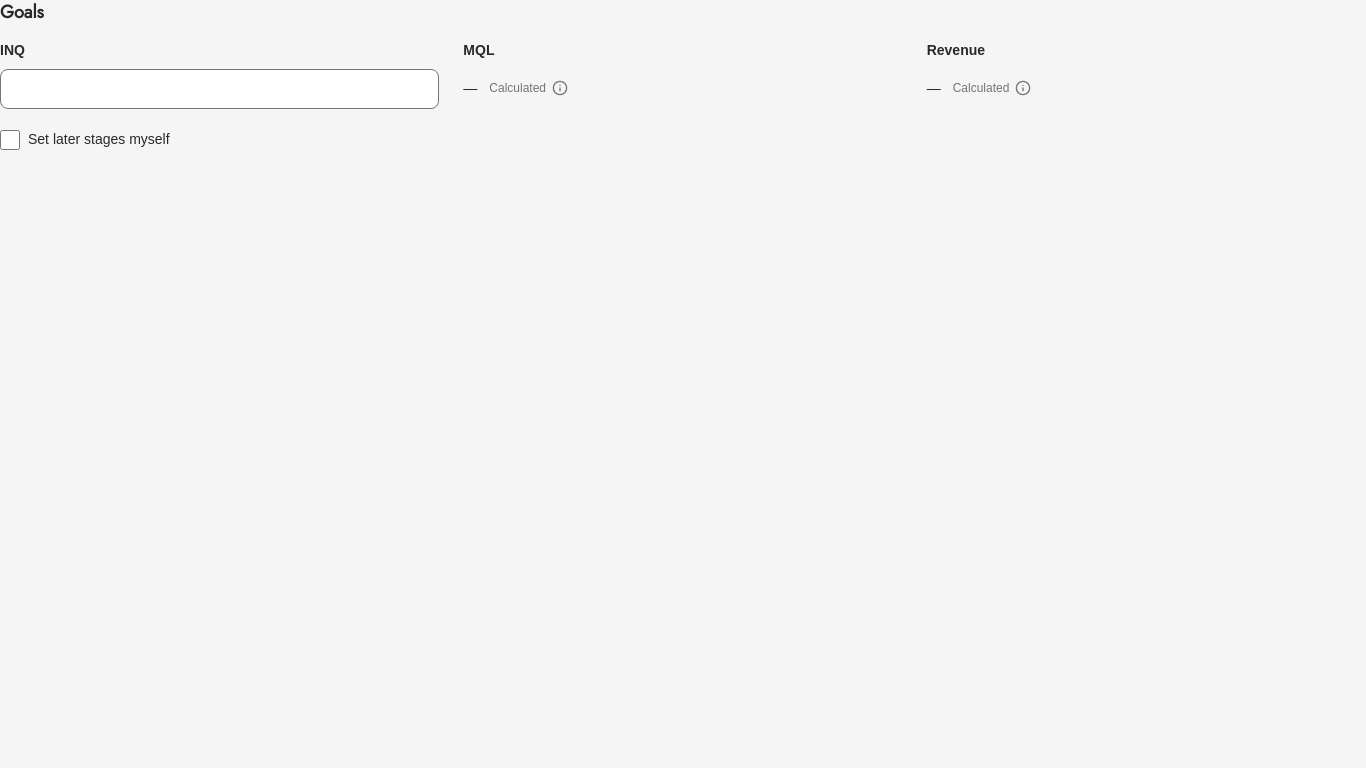
Test: GoalsFields (feature 006, FR-018) › calculates MQL and revenue from INQ with the model, labelled Calculated with the formula
This screenshot has width=1366, height=768.
In the field labelled "INQ": (220, 89) [0, 69, 439, 109], type "250,000"
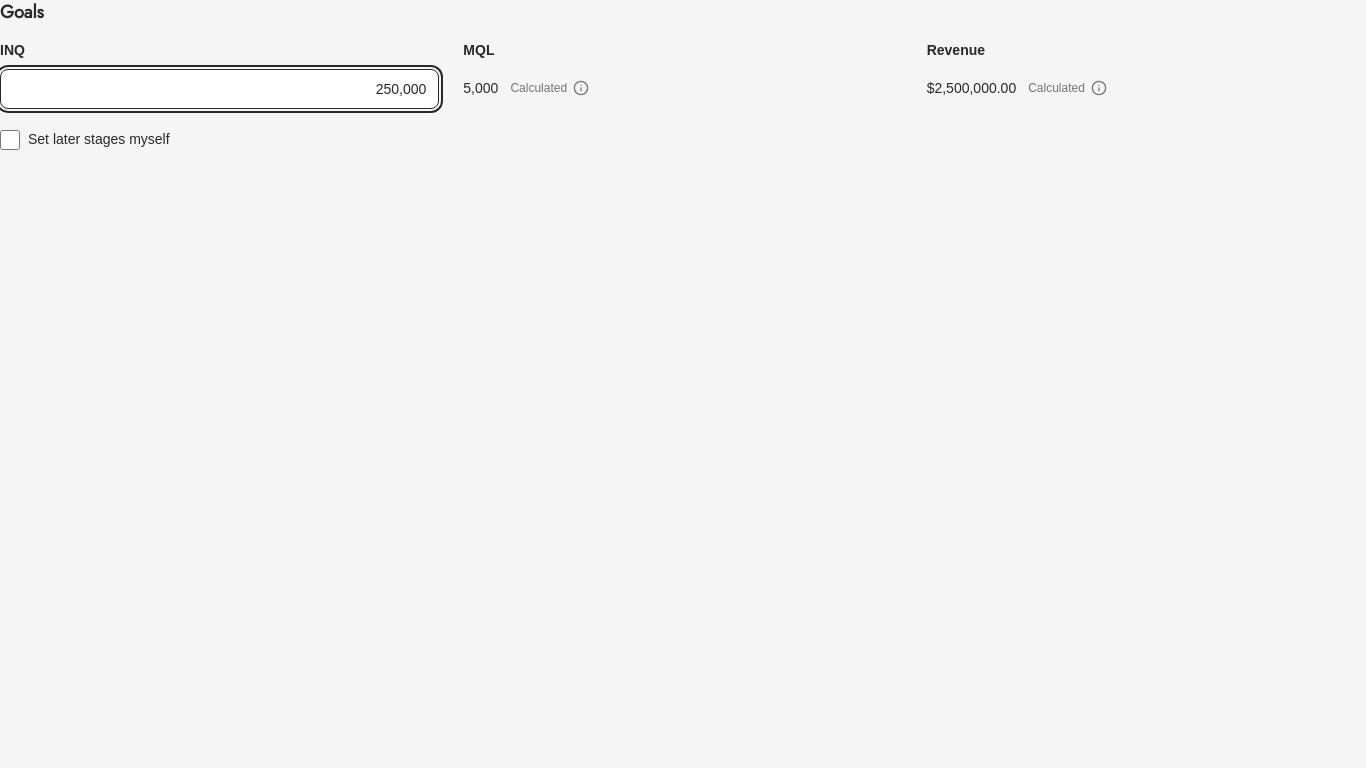
Click the button named "About MQL calculation": (581, 88) [569, 76, 593, 100]
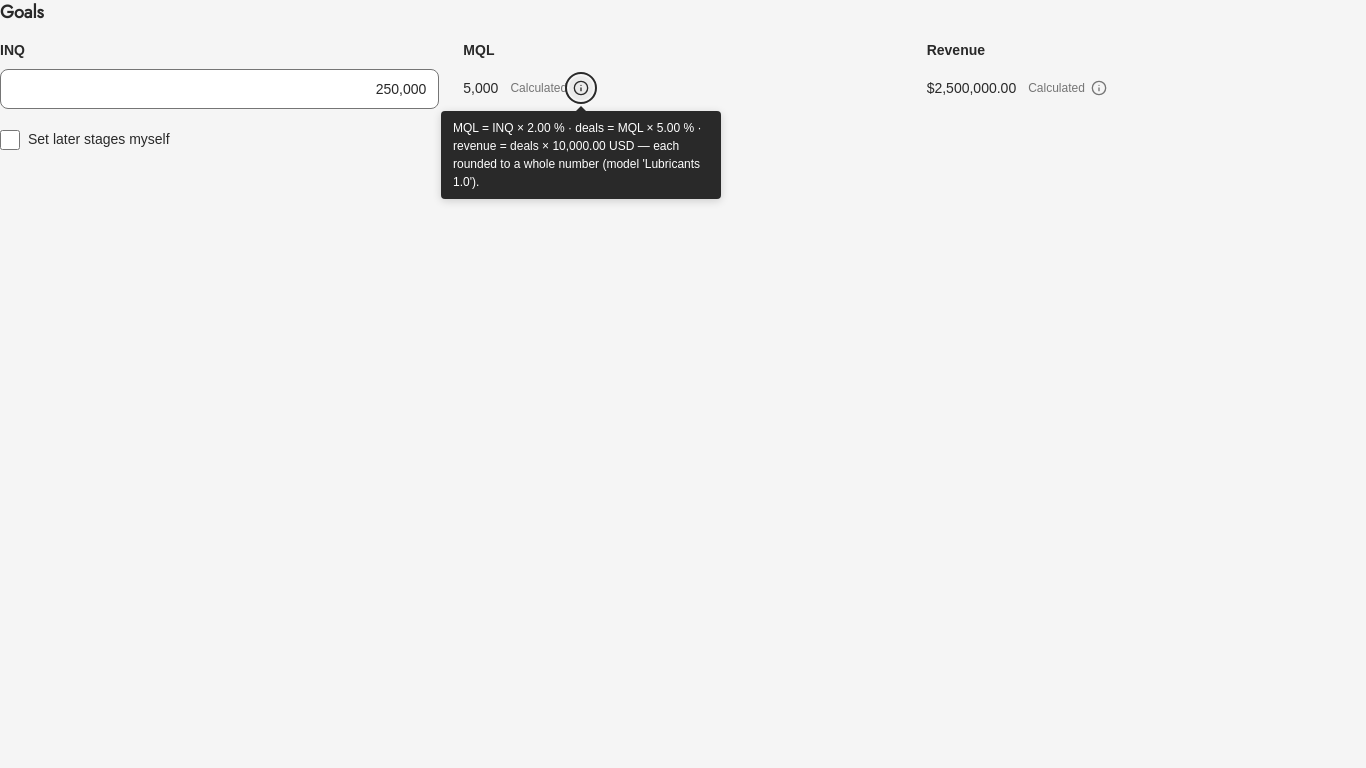
Result: the text "MQL = INQ × 2.00 % · deals = MQL × 5.00 % · revenue = deals × 10,000.00 USD — each rounded to a whole number (model 'Lub" is shown at [453, 121, 702, 189]
